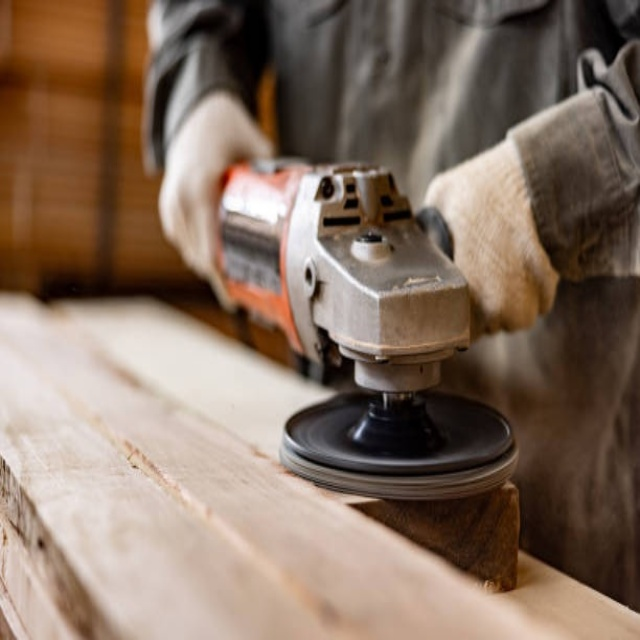Guantes: (422, 130, 564, 337), (157, 94, 272, 312)
